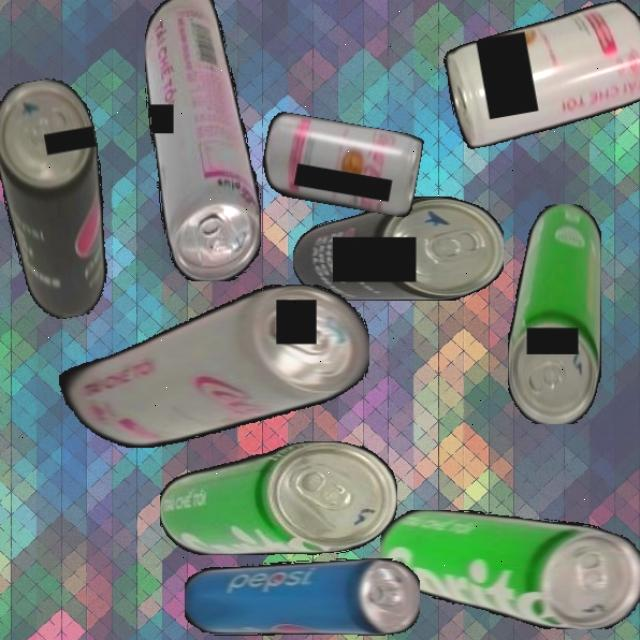debris: (44, 284, 369, 448), (144, 0, 261, 281), (0, 73, 126, 324), (379, 510, 640, 629), (439, 0, 640, 150), (159, 442, 397, 556), (292, 197, 504, 300), (507, 203, 601, 424), (183, 558, 420, 636), (258, 111, 424, 218)
